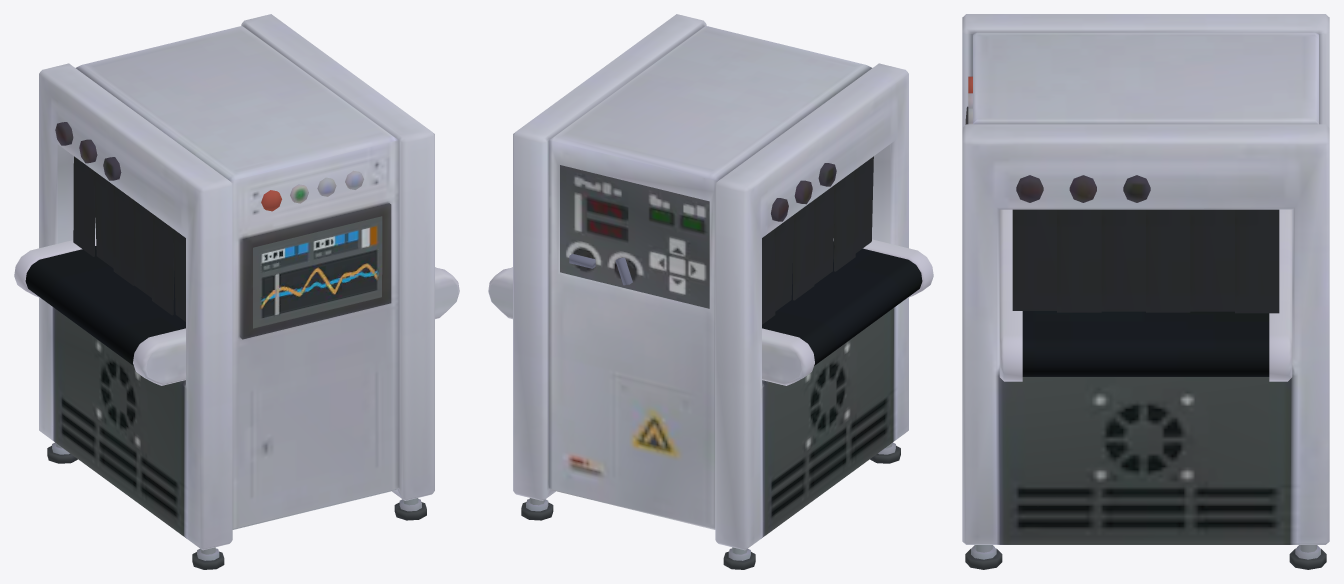
3 views of the same model, side by side, from view 1: azimuth 30°, elevation 25°; view 2: azimuth 150°, elevation 25°; view 3: azimuth 270°, elevation 25° (orthographic). The views are drawn at different scales.
Bounding box in the file's own units: 10 × 11.54 × 8.93.
3 materials, 3 textured.
